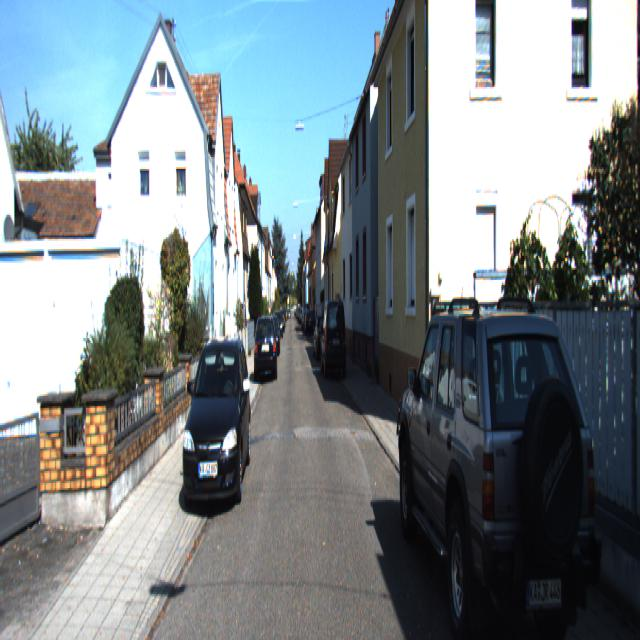Car: (394, 285, 607, 638), (182, 330, 252, 518), (321, 298, 348, 381), (255, 314, 276, 384)
